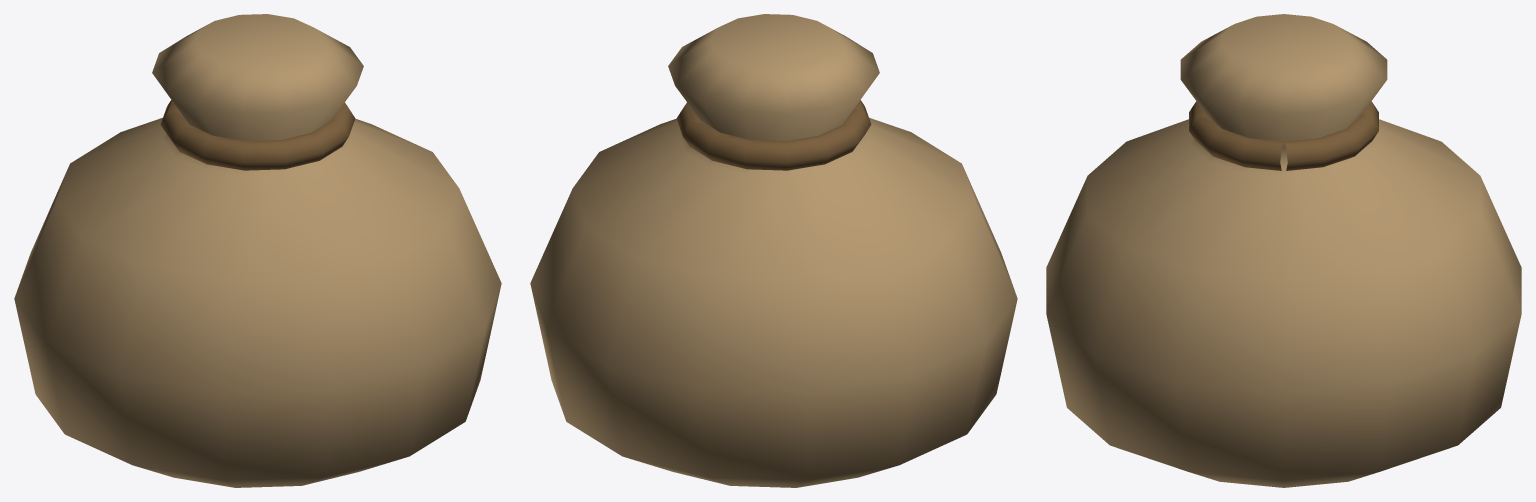
File: item_sack.glb
The picture shows the model from 3 angles, left to right: view 1: azimuth 30°, elevation 25°; view 2: azimuth 150°, elevation 25°; view 3: azimuth 270°, elevation 25°; orthographic projection.
Parts seen in each view (by area): view 1: item_sack_main; view 2: item_sack_main; view 3: item_sack_main.
Part boxes in pixels (<box>): item_sack_main: <box>14,14,501,487</box>; item_sack_main: <box>530,14,1017,487</box>; item_sack_main: <box>1046,14,1521,487</box>.
Bounding box in the file's own units: 0.23 × 0.2 × 0.2242.
